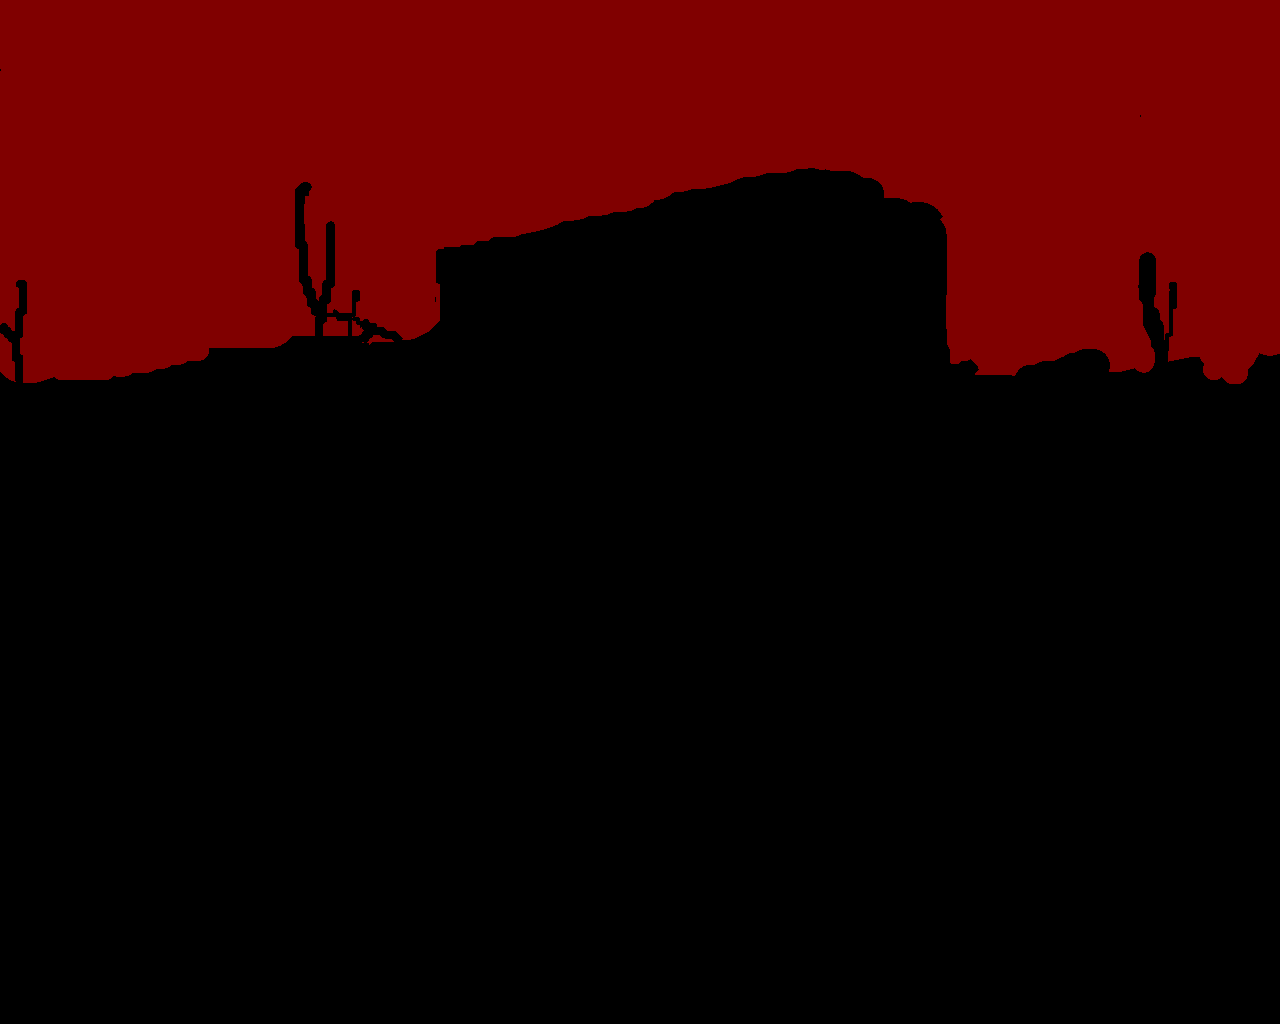Sky: (1, 1, 1279, 385)
